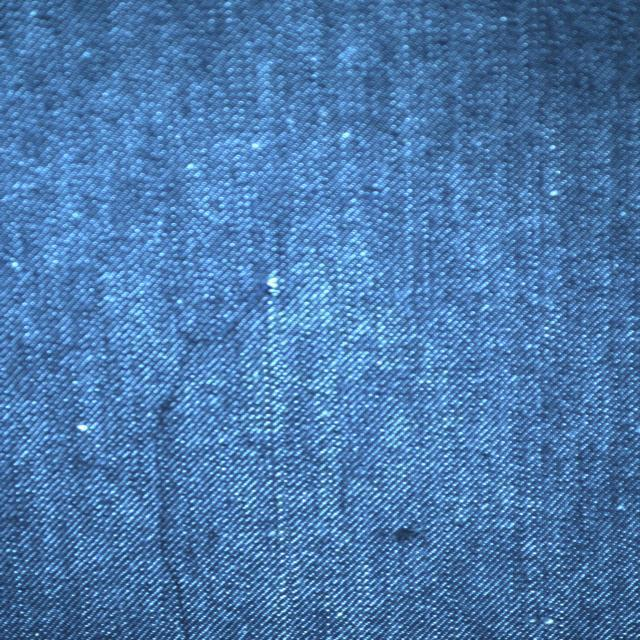defect: (145, 319, 243, 640)
